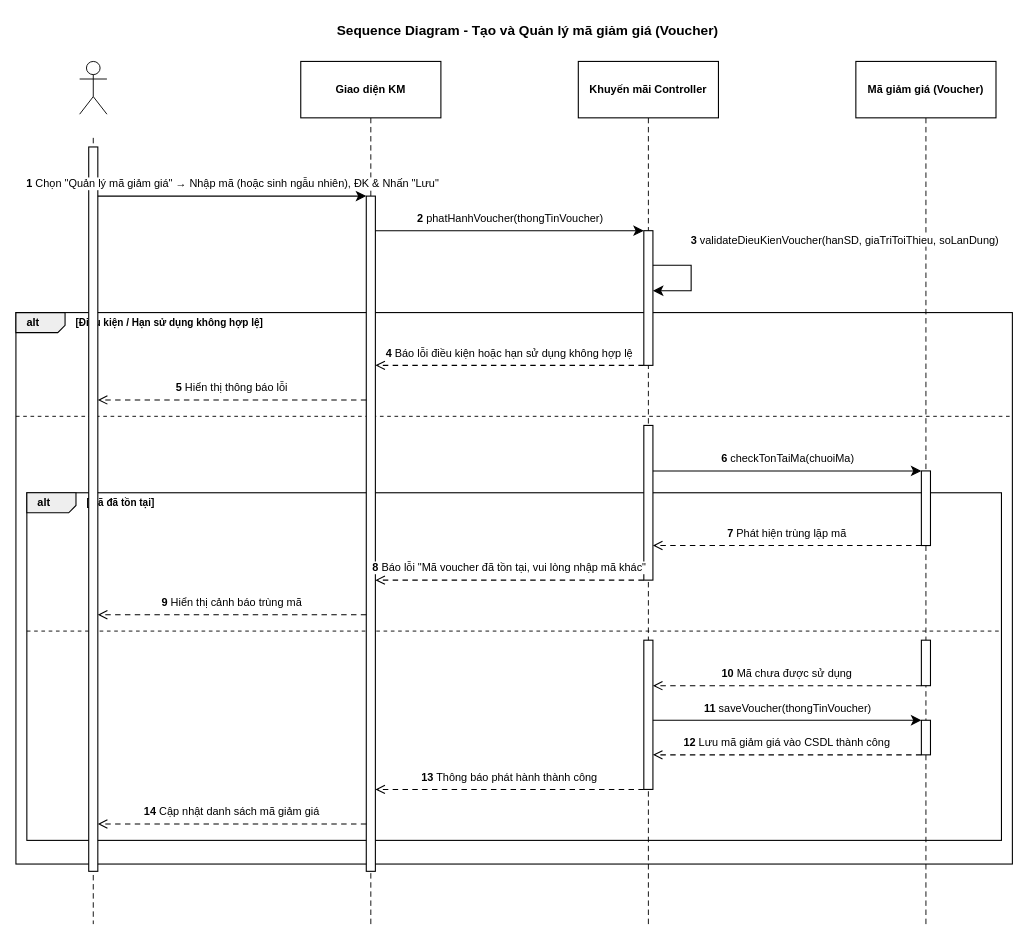
This 1030x941 diagram has some shape labels left out. Here are the shapes that lost their labels. From the top down, the centre of each, then its label:
At (93,87): "Quản lý".
At (88,427): "[Điều kiện hợp lệ]".
At (84,641): "[Mã hợp lệ]".
